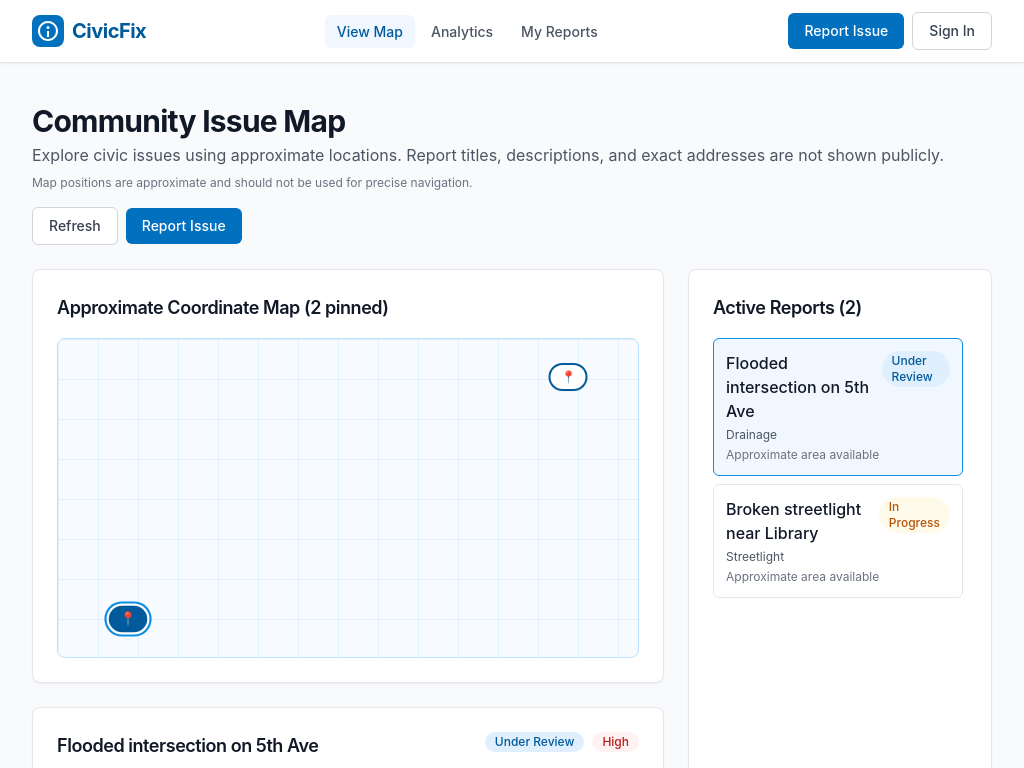
Test: PublicMapPage (M4.1) › renders markers and updates details when selecting markers or list items
Expected: the heading "Approximate Coordinate Map (2 pinned)" is shown, [57, 294, 389, 322]
Click the button named "select approximate marker: streetlight report".
click(568, 377)  # box [549, 363, 588, 391]
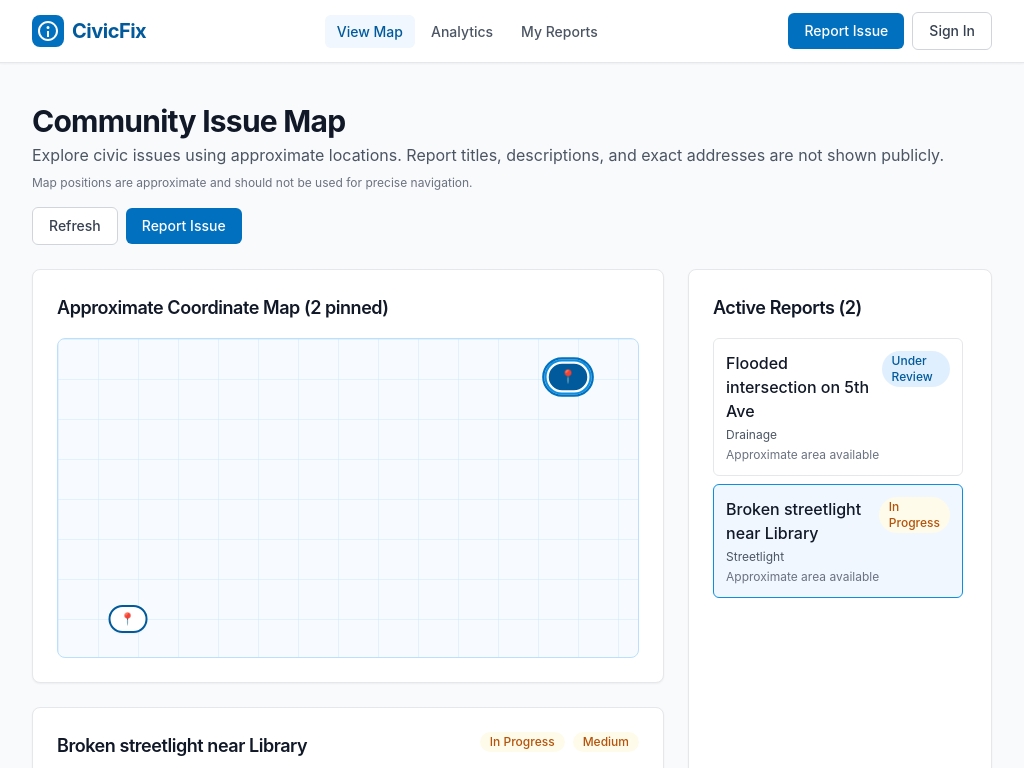
Result: the heading "Broken streetlight near Library" is shown at [57, 732, 307, 760]
Click the button "Flooded intersection on 5th Ave".
click(838, 407)  # box [713, 338, 963, 476]
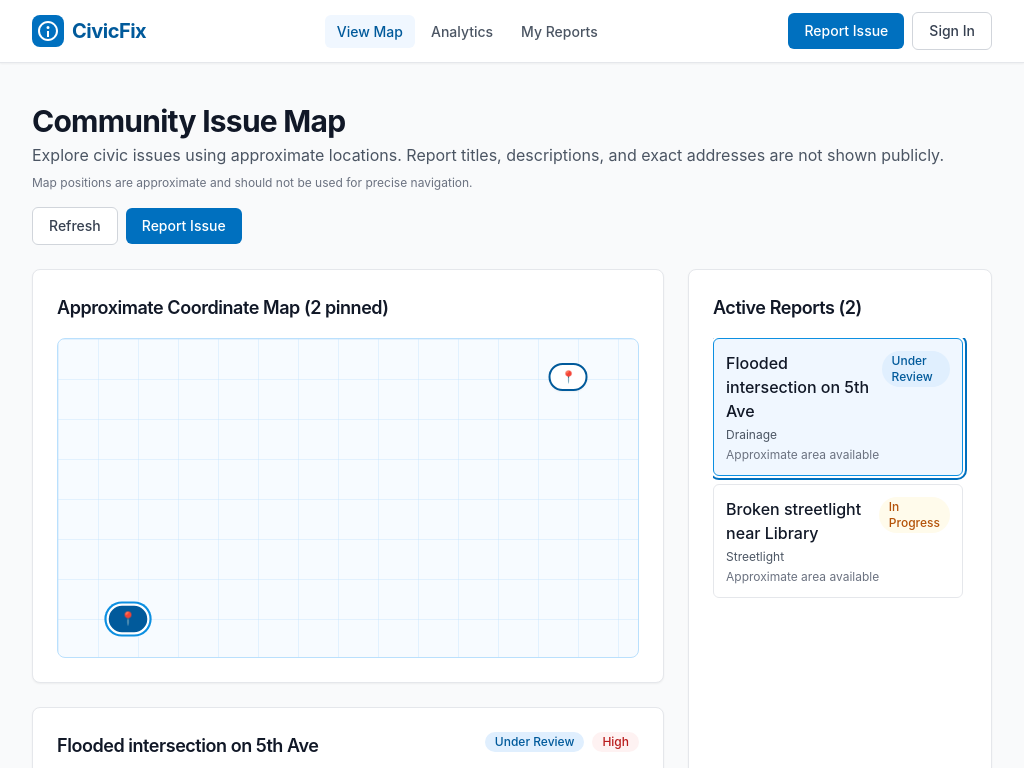
Result: the heading "Flooded intersection on 5th Ave" is shown at [57, 732, 318, 760]
